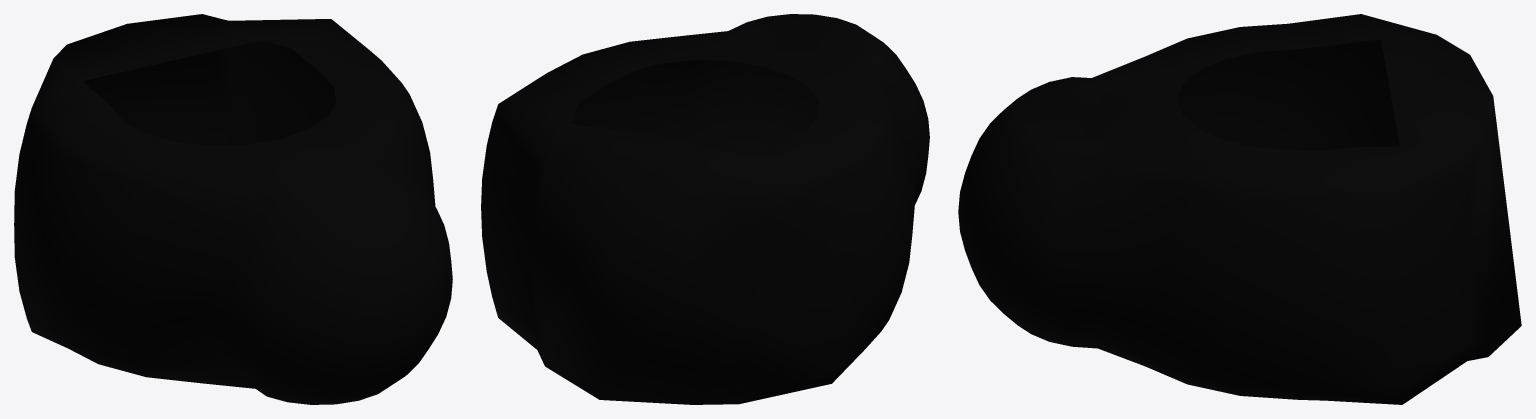
Rendered from HipRoll.obj.
3 views of the same model, side by side, from view 1: azimuth 30°, elevation 25°; view 2: azimuth 150°, elevation 25°; view 3: azimuth 270°, elevation 25° (orthographic). The views are drawn at different scales.
Size of the model in its own units: 1.62 by 1 by 2.05.
